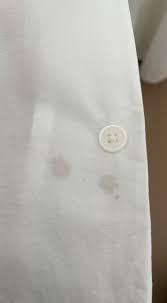oil: (98, 179, 128, 202), (49, 152, 75, 176)
